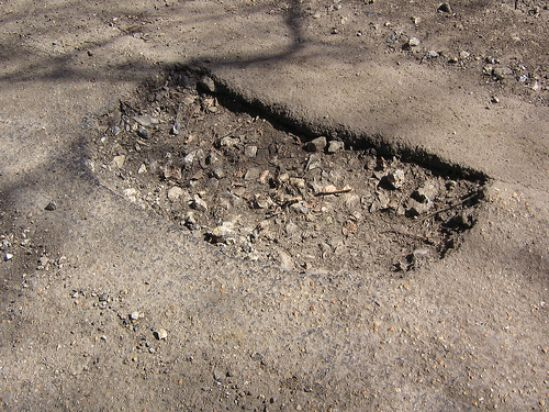pothole: (72, 66, 493, 281)
